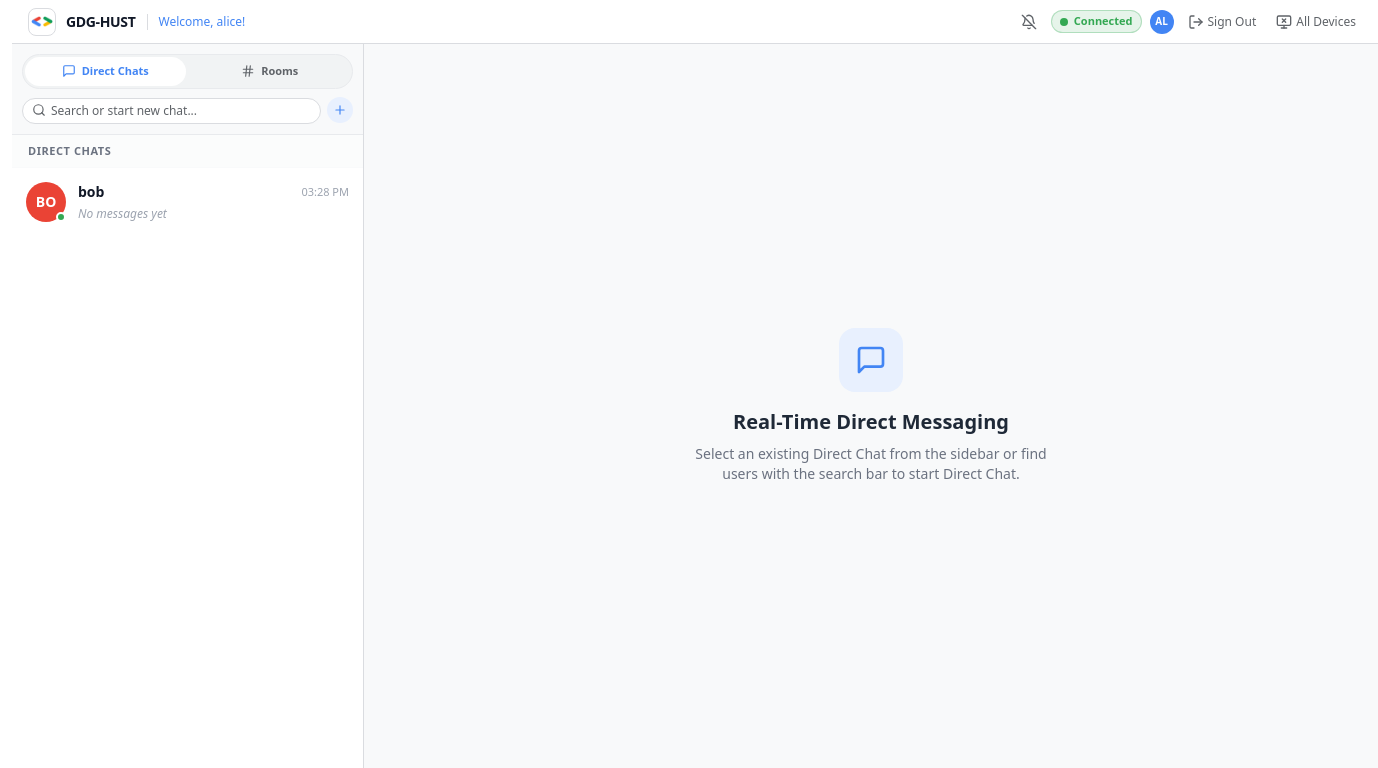
Test: Rate limit notices (SEC-07) › RATE_LIMITED on a Direct Chat message shows the wait time and keeps the draft
The image size is (1378, 768).
Click the text "bob".
click(91, 192)  # box [78,182,104,202]
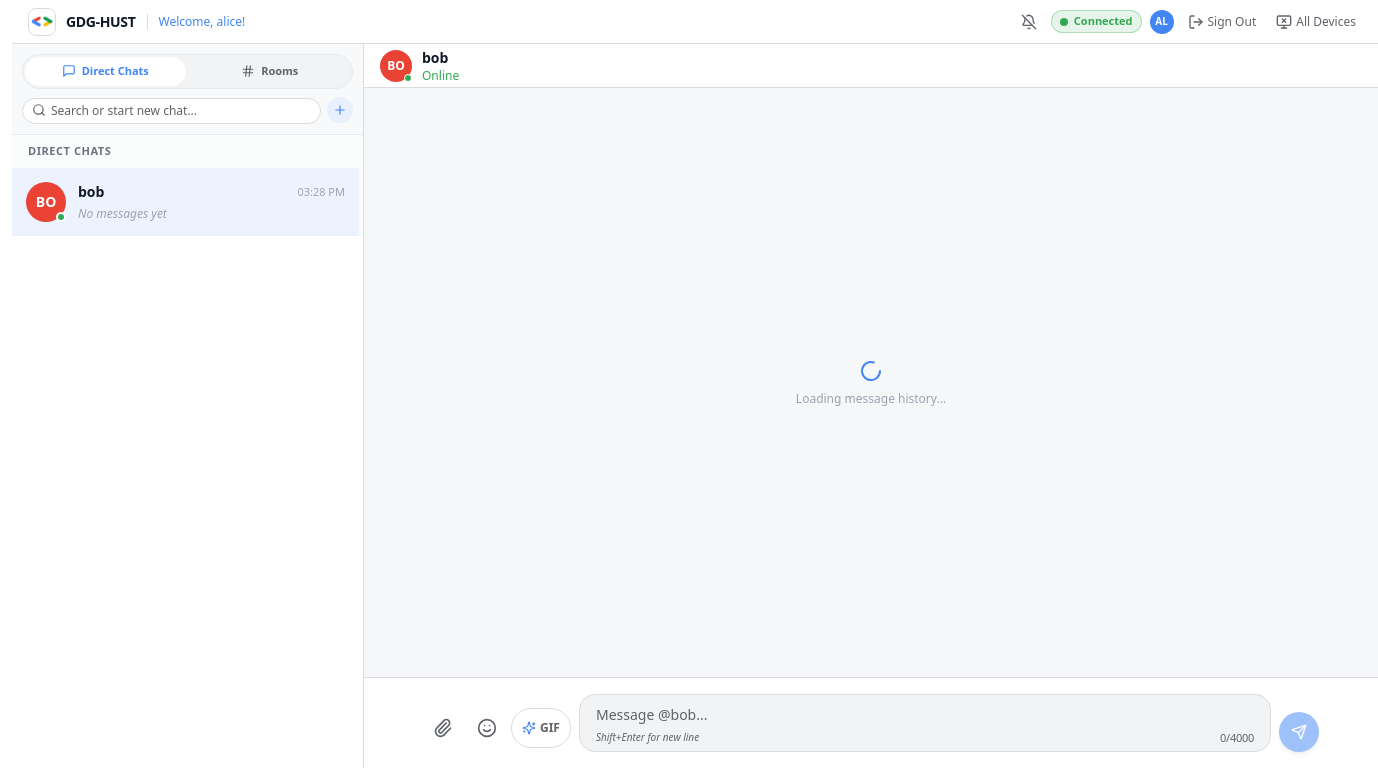
Type "hello bob" into the text box with placeholder "Message @bob...".
click(925, 715); type("hello bob")  # box [596,705,1254,725]
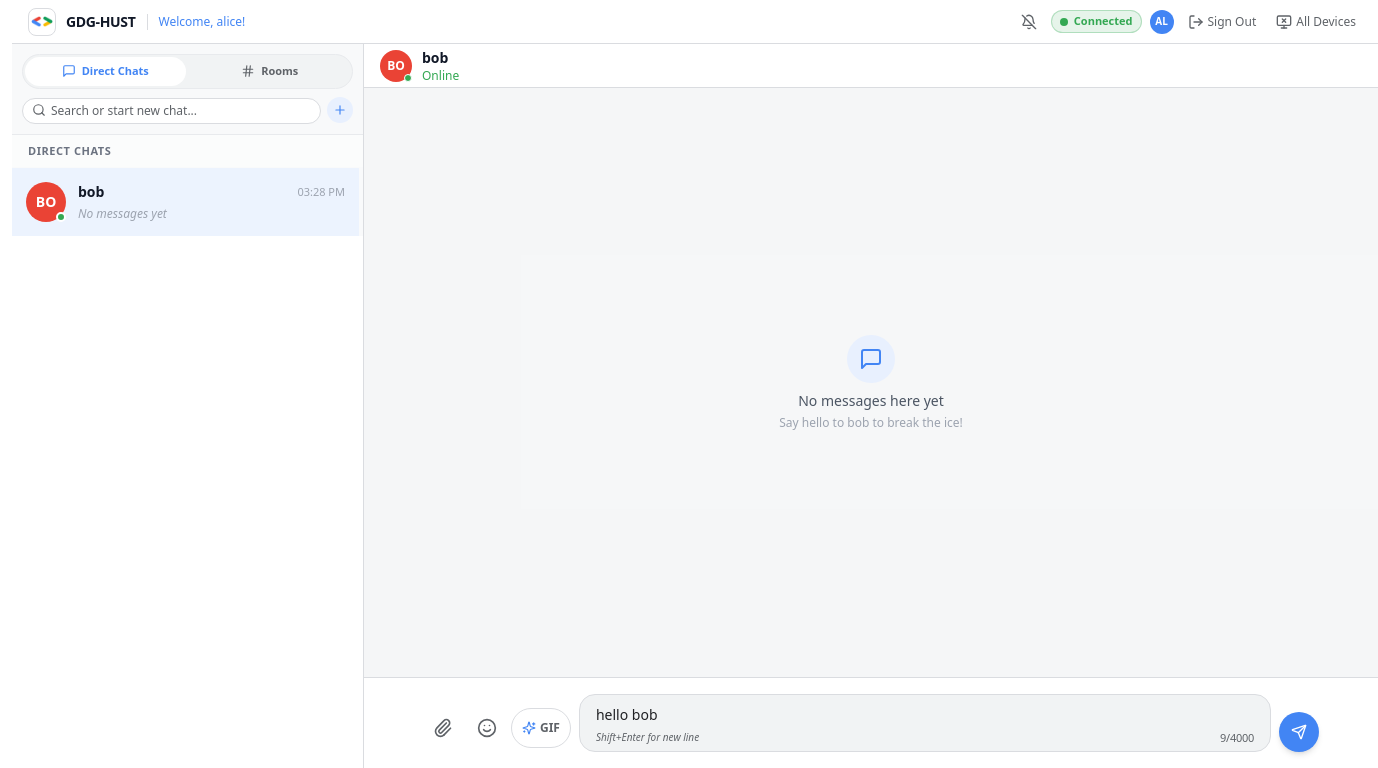
Press Enter in the text box with placeholder "Message @bob...", box [596,705,1254,725]
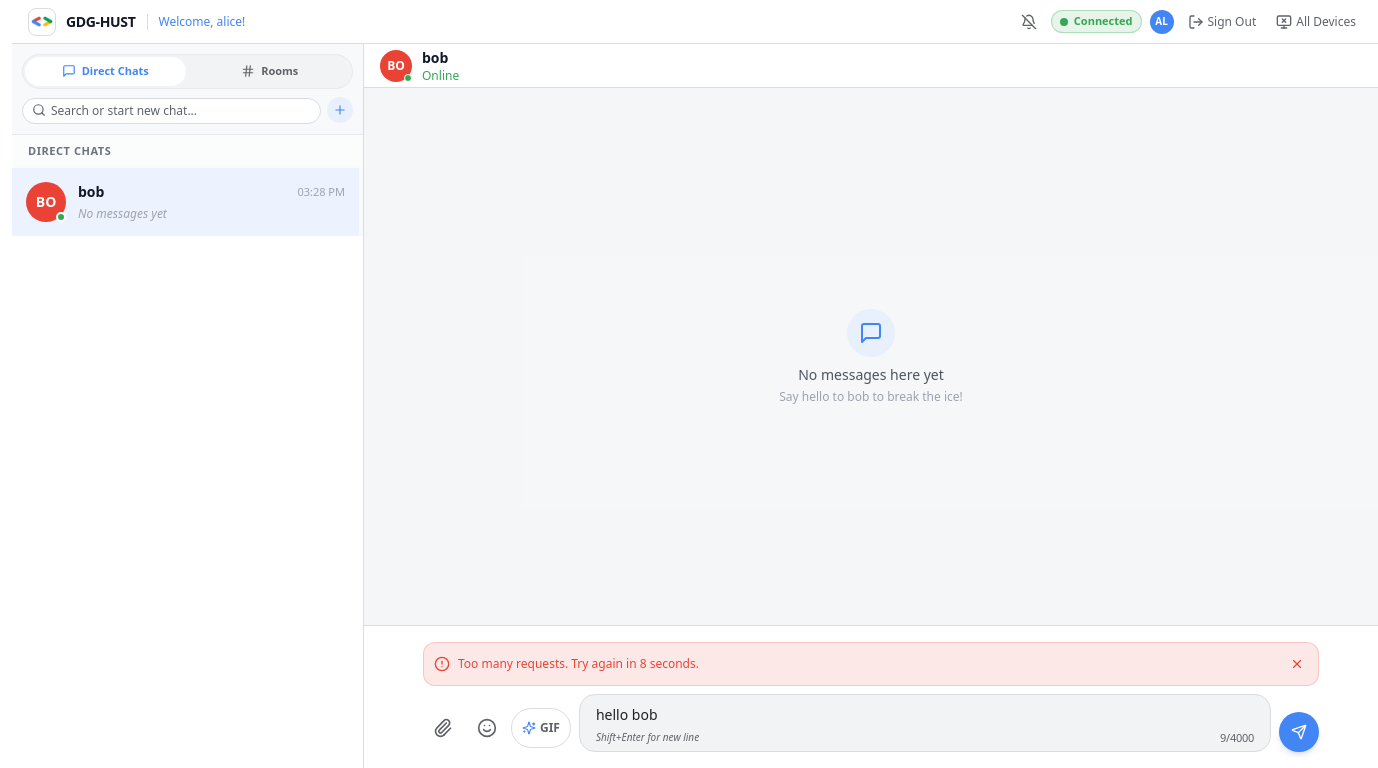
Expected: the message shows "Try again in 8 seconds", [458,655,699,672]
